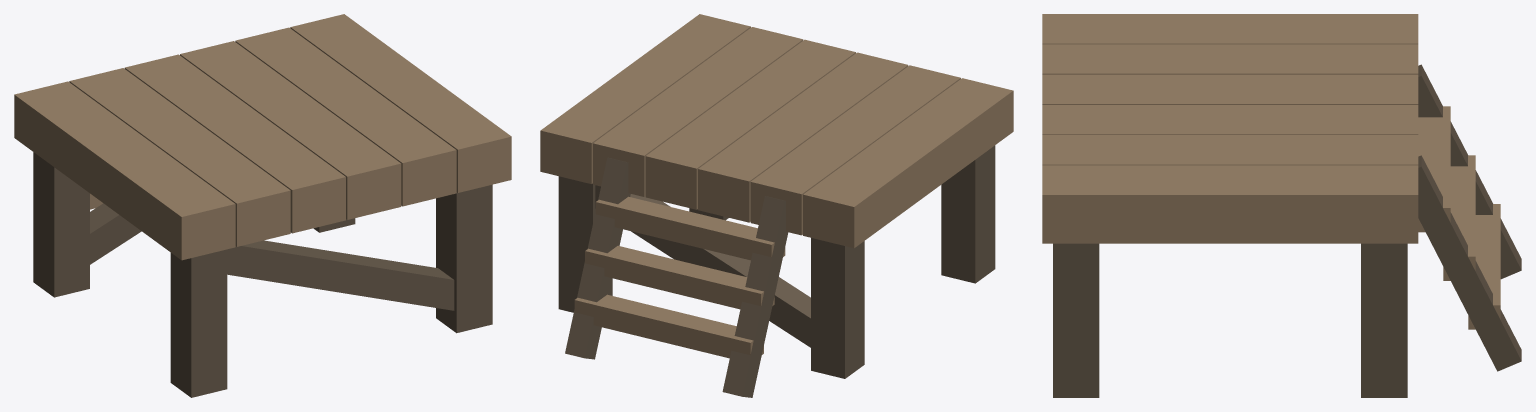
File: Craft_Step.fbx
3 views of the same model, side by side, from view 1: azimuth 30°, elevation 25°; view 2: azimuth 150°, elevation 25°; view 3: azimuth 270°, elevation 25° (orthographic). The views are drawn at different scales.
Parts seen in each view (by area): view 1: Craft_Step; view 2: Craft_Step; view 3: Craft_Step.
Boxes of the visible parts, x1,y1,x2,y2 form: Craft_Step: (14, 14, 511, 397); Craft_Step: (540, 14, 1013, 397); Craft_Step: (1042, 14, 1521, 397).
Size of the model in its own units: 1.2 by 0.6659 by 1.34.
